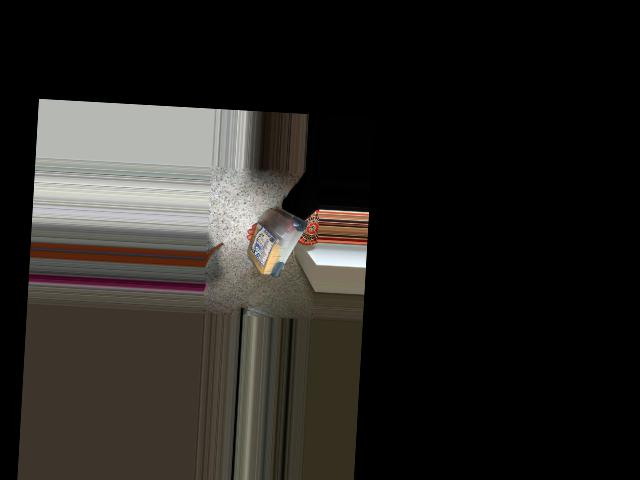cheese: (244, 194, 307, 282)
